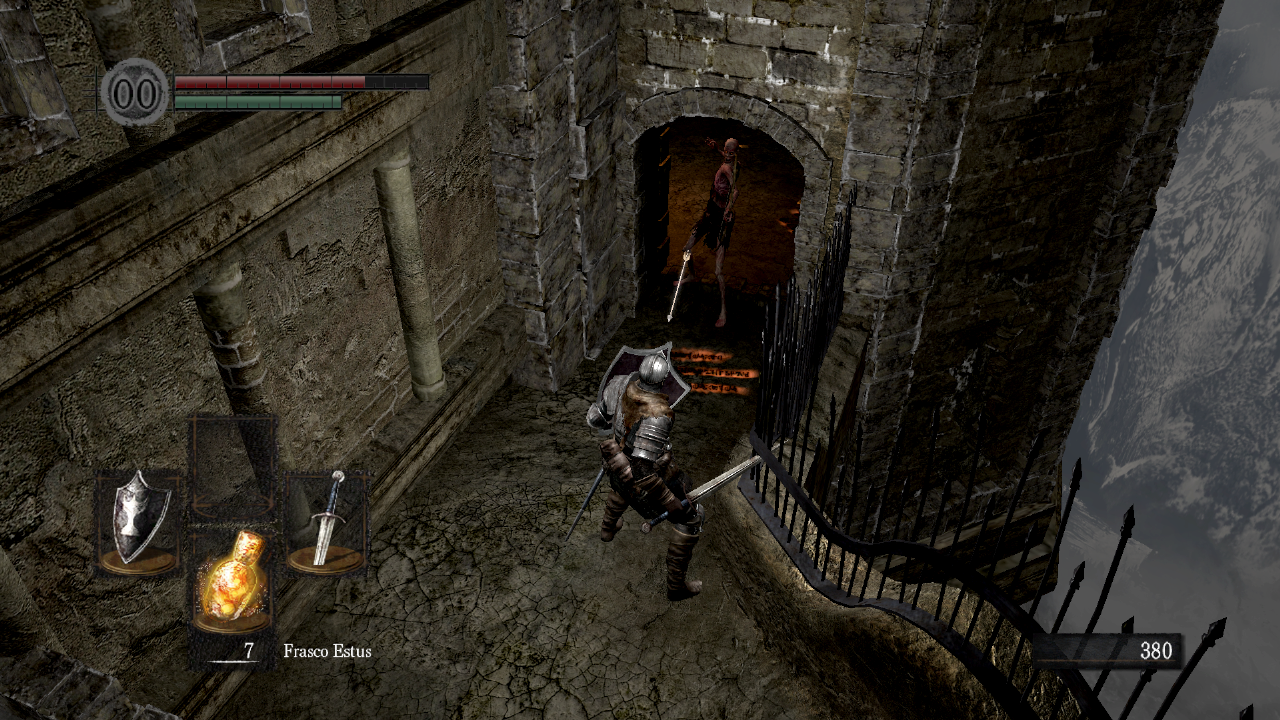hollow: (673, 137, 741, 327)
player: (566, 342, 788, 601)
